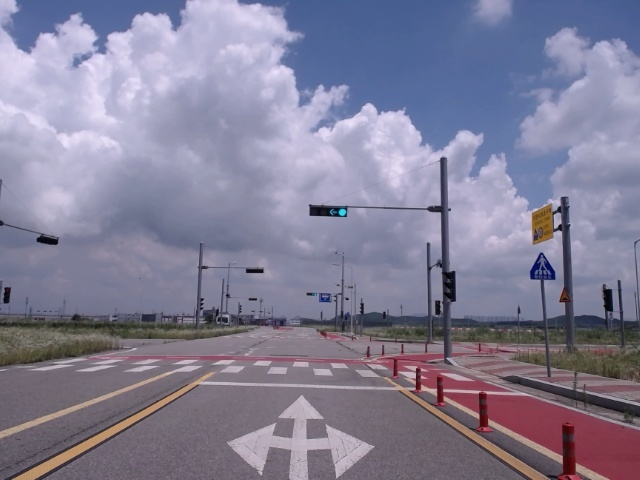all_green_4: (311, 204, 352, 220)
